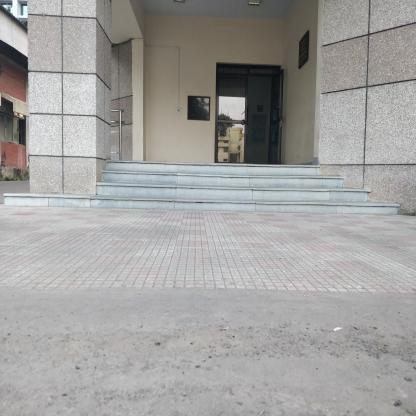stairs: (105, 162, 315, 216)
